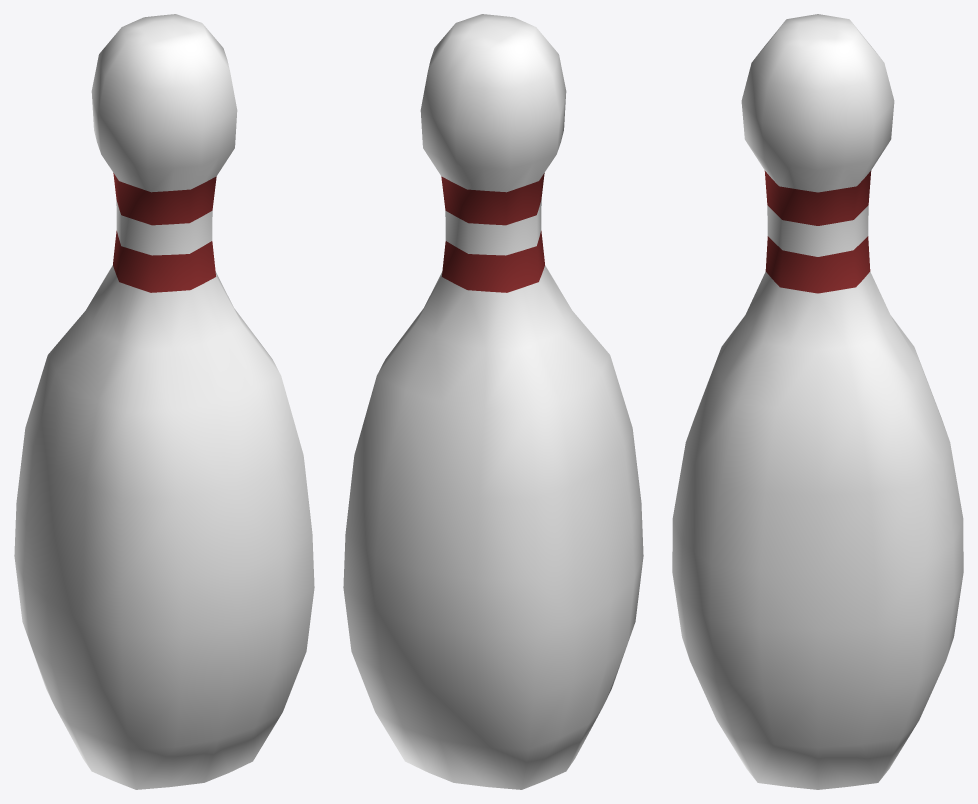
File: @Tag.Pin.obj
The picture shows the model from 3 angles, left to right: view 1: azimuth 30°, elevation 25°; view 2: azimuth 150°, elevation 25°; view 3: azimuth 270°, elevation 25°; orthographic projection.
Visible parts, largest first — view 1: Pin.010; view 2: Pin.010; view 3: Pin.010.
Part boxes in pixels (bbox=[...]): Pin.010: bbox=[14, 14, 314, 789]; Pin.010: bbox=[343, 14, 643, 789]; Pin.010: bbox=[672, 14, 963, 789].
Bounding box in the file's own units: 2.25 × 6.65 × 2.41.
Materials: 2 (2 with a texture image).
